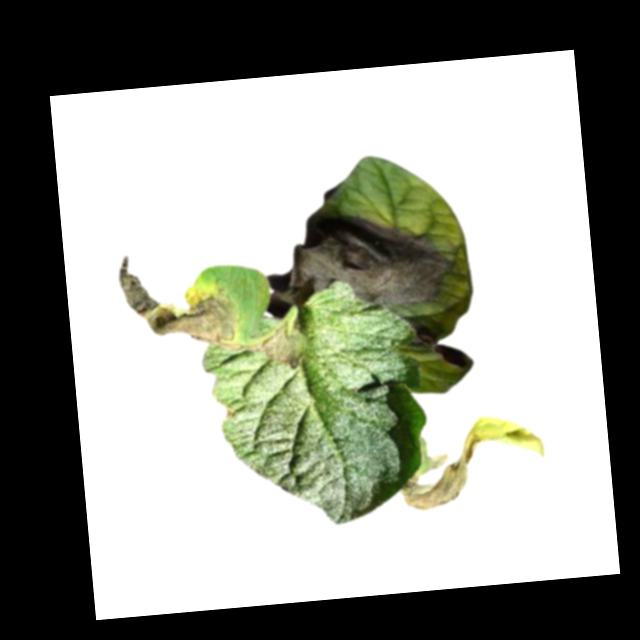Late_blight: (258, 202, 455, 317), (395, 409, 551, 514), (116, 245, 239, 355), (258, 323, 300, 367)
healthy: (195, 273, 435, 535)
